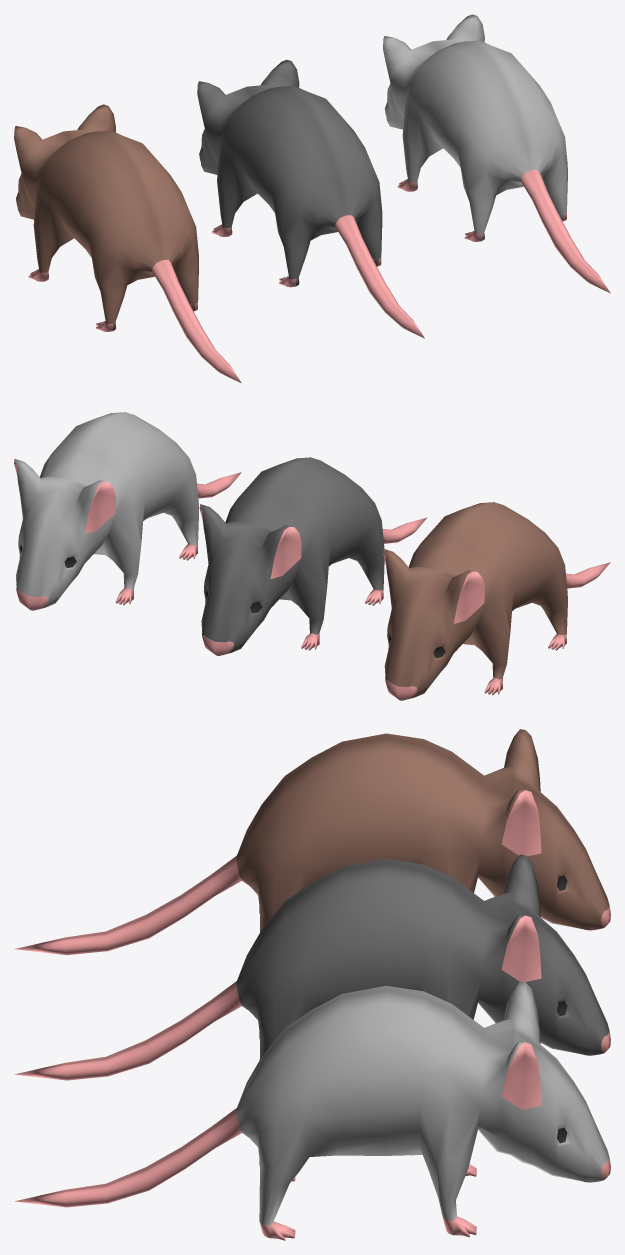
File: cartoon_low_poly_rat_pack.glb
The picture shows the model from 3 angles, top to bottom: view 1: azimuth 30°, elevation 25°; view 2: azimuth 150°, elevation 25°; view 3: azimuth 270°, elevation 25°; orthographic projection. The views are drawn at different scales.
Visible parts, largest first — view 1: Rat2, Rat3, Rat1; view 2: Rat1, Rat3, Rat2; view 3: Rat1, Rat2, Rat3.
Part boxes in pixels (x1,y1,x2,y2): Rat2: [197, 59, 424, 338]; Rat3: [14, 104, 241, 382]; Rat1: [383, 14, 610, 293]; Rat1: [14, 412, 241, 610]; Rat3: [383, 502, 610, 700]; Rat2: [199, 457, 427, 655]; Rat1: [15, 981, 610, 1240]; Rat2: [14, 854, 610, 1080]; Rat3: [14, 729, 610, 955].
Bounding box in the file's own units: 3.21 × 0.9968 × 2.49.
1 material, 1 textured.
